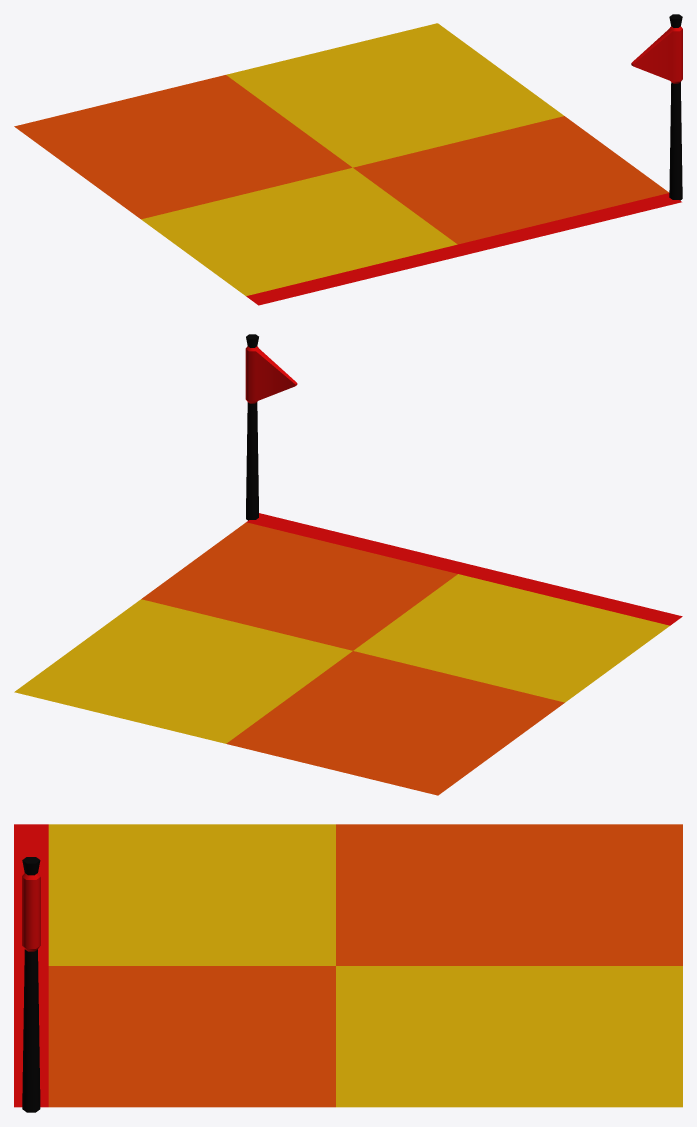
Rendered from Base_FinishLine.fbx.
The picture shows the model from 3 angles, top to bottom: view 1: azimuth 30°, elevation 25°; view 2: azimuth 150°, elevation 25°; view 3: azimuth 270°, elevation 25°; orthographic projection. The views are drawn at different scales.
Visible parts, largest first — view 1: Base_FinishLine; view 2: Base_FinishLine; view 3: Base_FinishLine.
Part boxes in pixels (<box>): Base_FinishLine: <box>14,14,682,305</box>; Base_FinishLine: <box>14,334,682,795</box>; Base_FinishLine: <box>14,824,682,1112</box>.
Bounding box in the file's own units: 2025 × 821 × 2000.
